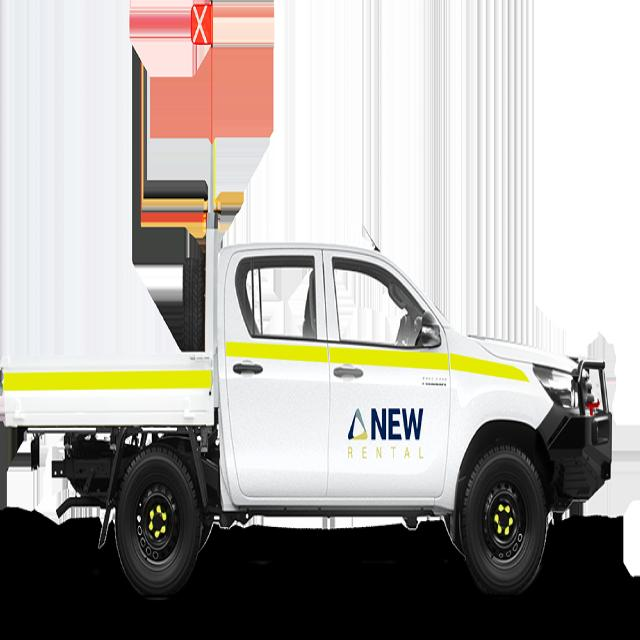light_vehicle: (0, 218, 622, 611)
